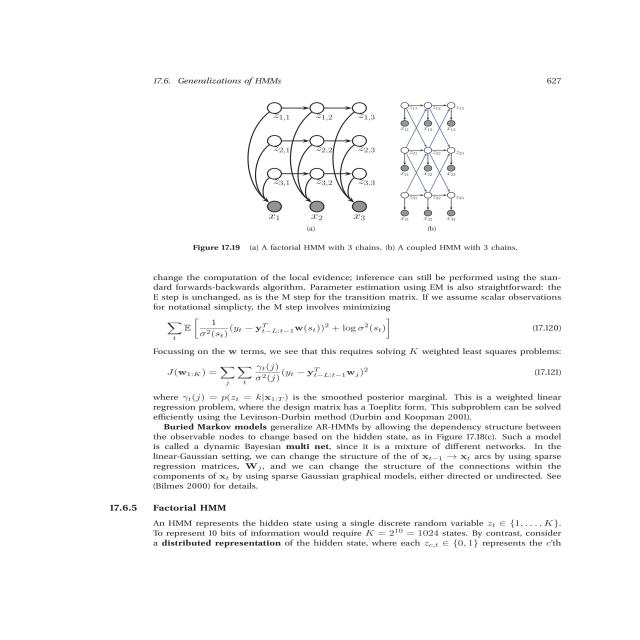diagram: (105, 88, 556, 258)
